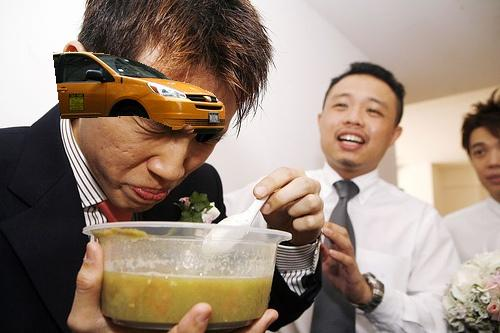tampered: (54, 52, 225, 142)
